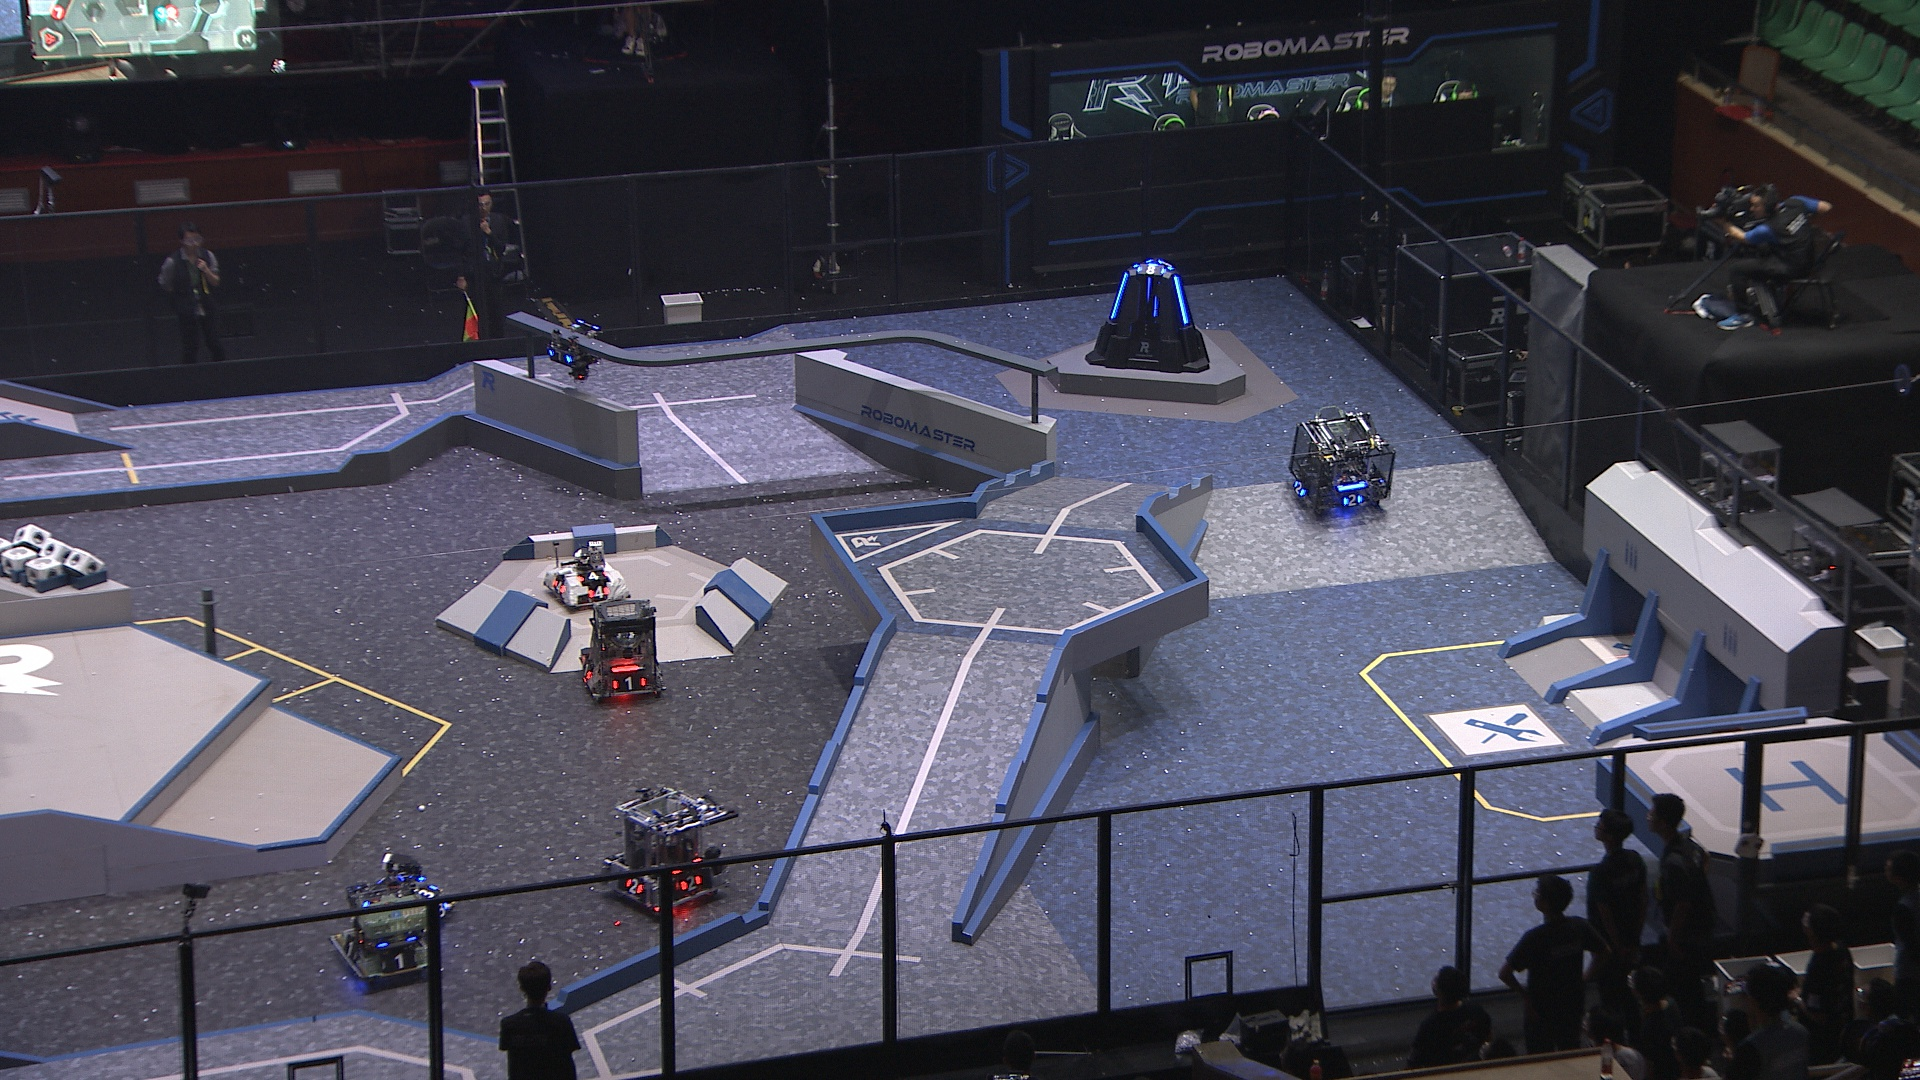armor: (1109, 272, 1130, 320), (380, 949, 419, 973), (1174, 276, 1191, 327), (611, 675, 650, 692), (622, 876, 650, 898), (342, 935, 363, 963), (678, 874, 704, 894), (547, 347, 575, 365), (578, 570, 609, 585), (1135, 262, 1168, 277), (585, 585, 613, 603), (418, 884, 439, 901), (551, 579, 570, 597), (1150, 295, 1162, 322), (1294, 479, 1309, 498), (1342, 495, 1365, 508), (436, 901, 451, 920), (580, 659, 593, 680), (1145, 276, 1153, 305)
base: (1084, 261, 1215, 376)
car: (603, 785, 740, 916), (1287, 411, 1400, 518), (327, 877, 436, 986), (579, 603, 667, 702), (359, 851, 458, 931), (542, 541, 636, 608)
watcher: (546, 319, 603, 386)
